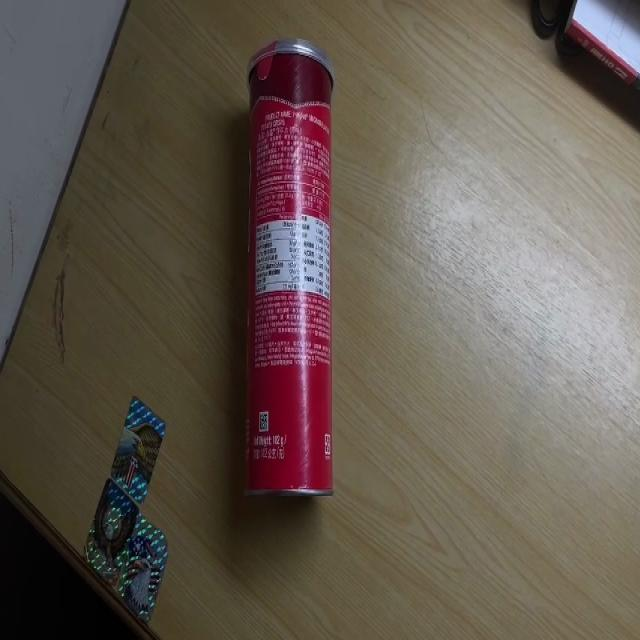Pringles: (245, 38, 336, 498)
